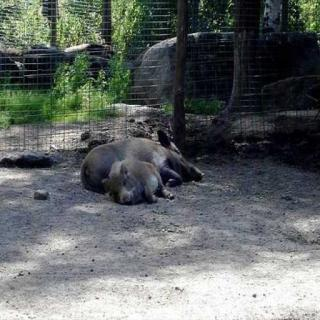Pig: (64, 128, 191, 180)
